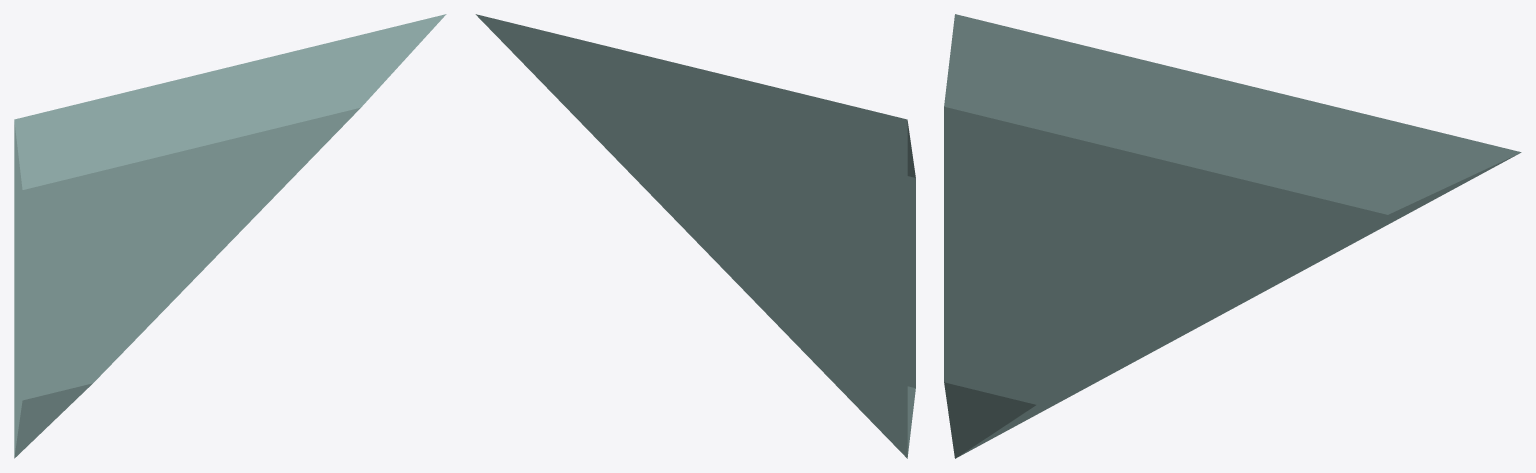
Rendered from BTrimCornerEndL.fbx.
The picture shows the model from 3 angles, left to right: view 1: azimuth 30°, elevation 25°; view 2: azimuth 150°, elevation 25°; view 3: azimuth 330°, elevation 25°; orthographic projection. The views are drawn at different scales.
Visible parts, largest first — view 1: BTrimCornerEndL; view 2: BTrimCornerEndL; view 3: BTrimCornerEndL.
Boxes of the visible parts, bbox=[...] form: BTrimCornerEndL: bbox=[14, 14, 446, 458]; BTrimCornerEndL: bbox=[475, 14, 915, 458]; BTrimCornerEndL: bbox=[944, 14, 1521, 458].
Size of the model in its own units: 200 by 150 by 6.67.
